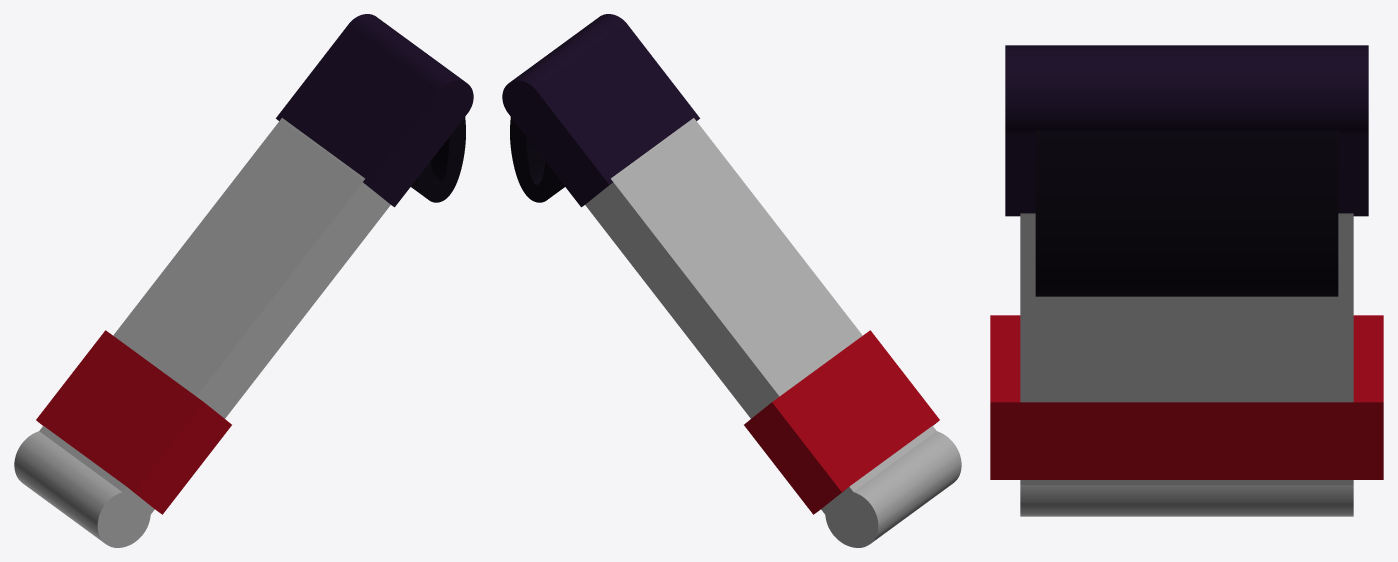
3 views of the same model, side by side, from view 1: azimuth 30°, elevation 25°; view 2: azimuth 150°, elevation 25°; view 3: azimuth 270°, elevation 25° (orthographic). The views are drawn at different scales.
Visible parts, largest first — view 1: U+1F9AF_layer01_obj00, U+1F9AF_layer02_obj00, U+1F9AF_layer03_obj00, U+1F9AF_layer00_obj00; view 2: U+1F9AF_layer01_obj00, U+1F9AF_layer02_obj00, U+1F9AF_layer03_obj00, U+1F9AF_layer00_obj00; view 3: U+1F9AF_layer00_obj00, U+1F9AF_layer01_obj00, U+1F9AF_layer02_obj00, U+1F9AF_layer03_obj00.
Part boxes in pixels (x1,y1,x2,y2): U+1F9AF_layer01_obj00: [14, 118, 390, 547]; U+1F9AF_layer02_obj00: [276, 14, 473, 207]; U+1F9AF_layer03_obj00: [36, 330, 231, 514]; U+1F9AF_layer00_obj00: [411, 117, 465, 202]; U+1F9AF_layer01_obj00: [585, 118, 961, 547]; U+1F9AF_layer02_obj00: [502, 14, 699, 207]; U+1F9AF_layer03_obj00: [744, 330, 939, 514]; U+1F9AF_layer00_obj00: [510, 117, 564, 202]; U+1F9AF_layer00_obj00: [1035, 130, 1338, 296]; U+1F9AF_layer01_obj00: [1020, 213, 1353, 516]; U+1F9AF_layer02_obj00: [1005, 45, 1368, 216]; U+1F9AF_layer03_obj00: [990, 315, 1383, 479].
Bounding box in the file's own units: 0.5678 × 0.5677 × 0.26.
